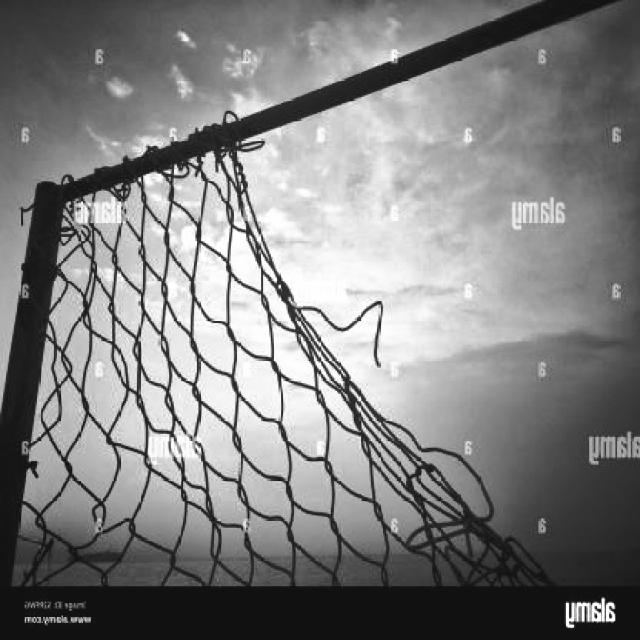anomaly-fence: (210, 32, 640, 633)
